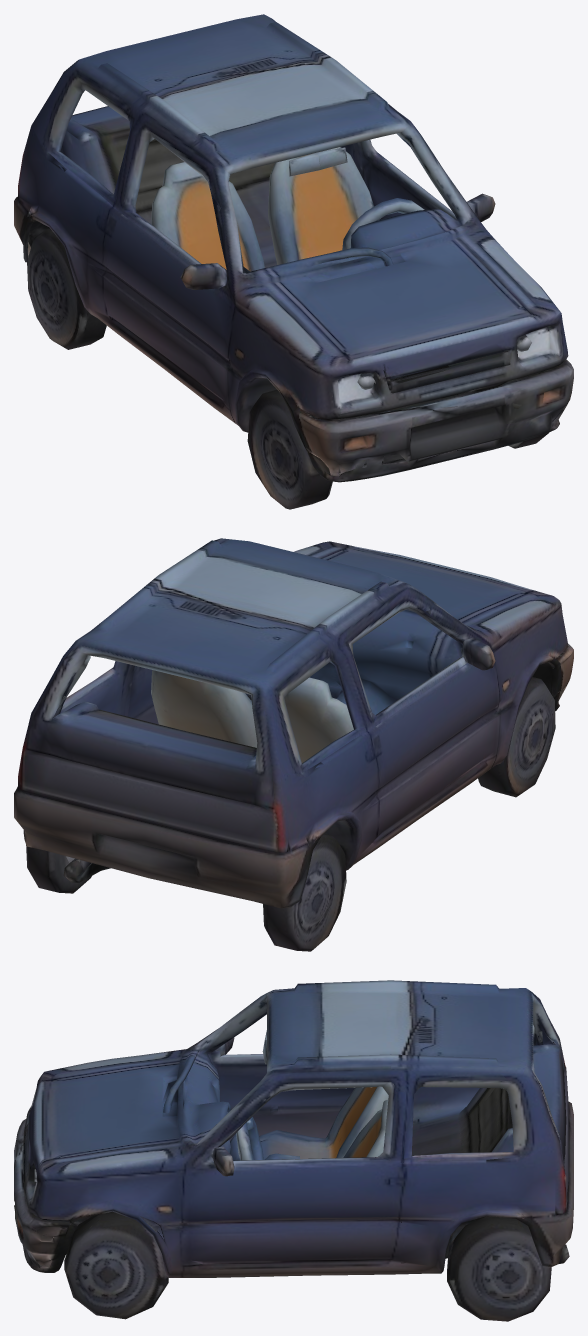
File: compact+car+3d+model.glb
The picture shows the model from 3 angles, top to bottom: view 1: azimuth 30°, elevation 25°; view 2: azimuth 150°, elevation 25°; view 3: azimuth 270°, elevation 25°; orthographic projection. The views are drawn at different scales.
Parts seen in each view (by area): view 1: tripo_node_f5ef88ec-a37f-4e03-8a02-5fc016f2b7a1; view 2: tripo_node_f5ef88ec-a37f-4e03-8a02-5fc016f2b7a1; view 3: tripo_node_f5ef88ec-a37f-4e03-8a02-5fc016f2b7a1.
Part boxes in pixels (x1,y1,x2,y2): tripo_node_f5ef88ec-a37f-4e03-8a02-5fc016f2b7a1: (14,14,573,509); tripo_node_f5ef88ec-a37f-4e03-8a02-5fc016f2b7a1: (14,538,573,951); tripo_node_f5ef88ec-a37f-4e03-8a02-5fc016f2b7a1: (14,980,573,1321).
Size of the model in its own units: 0.5761 by 0.4902 by 0.998.
Materials: 1 (1 with a texture image).
